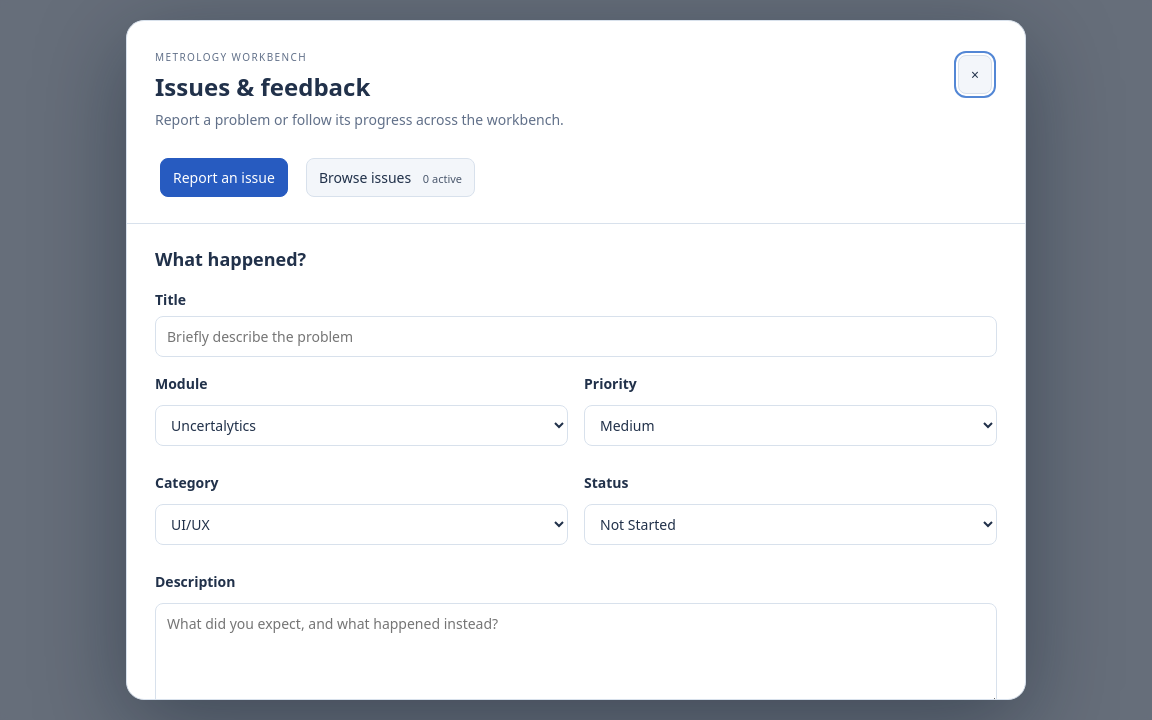
Scenario: Workbench issue tracker › keeps the draft after a failed save and persists a successful retry once
Type "Range selection" into the field labelled "Title".
click(576, 336); type("Range selection")  # box left=155, top=316, right=997, bottom=357
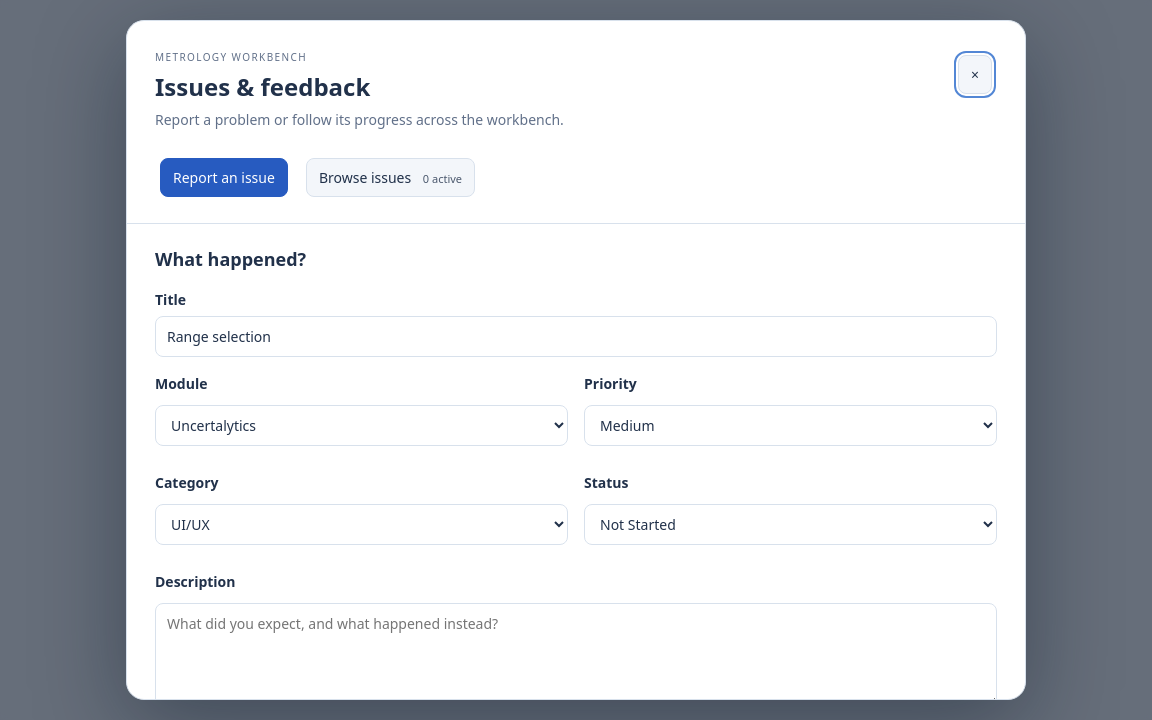
Type "Selection is lost" into the text box labelled "Description".
click(576, 655); type("Selection is lost")  # box left=155, top=603, right=997, bottom=707
(page scrolled)
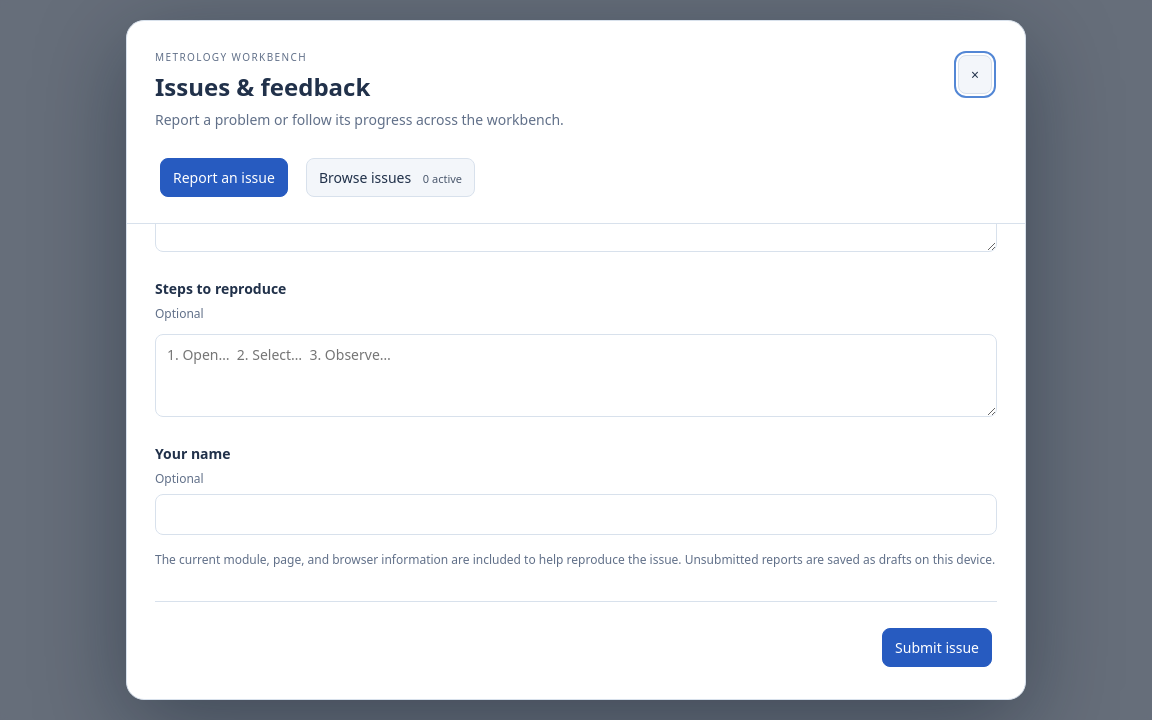
Click the button "Submit issue".
click(937, 648)  # box left=882, top=628, right=992, bottom=667
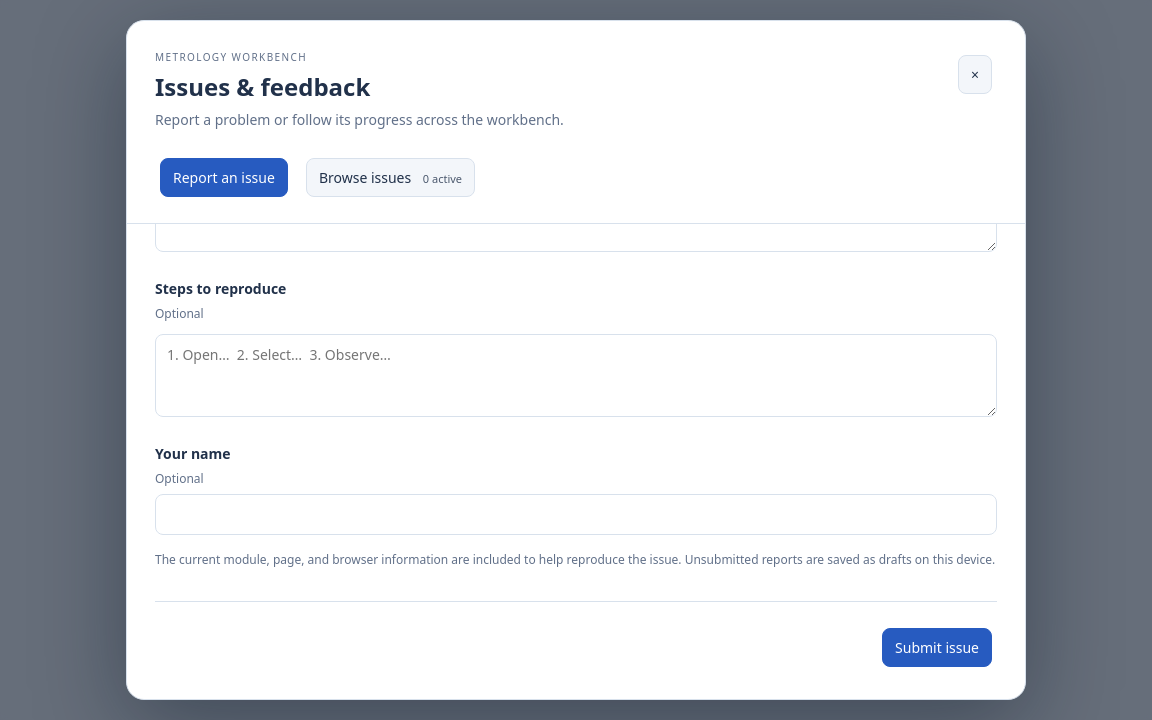
Click the button "Submit issue".
click(937, 648)  # box left=882, top=628, right=992, bottom=667
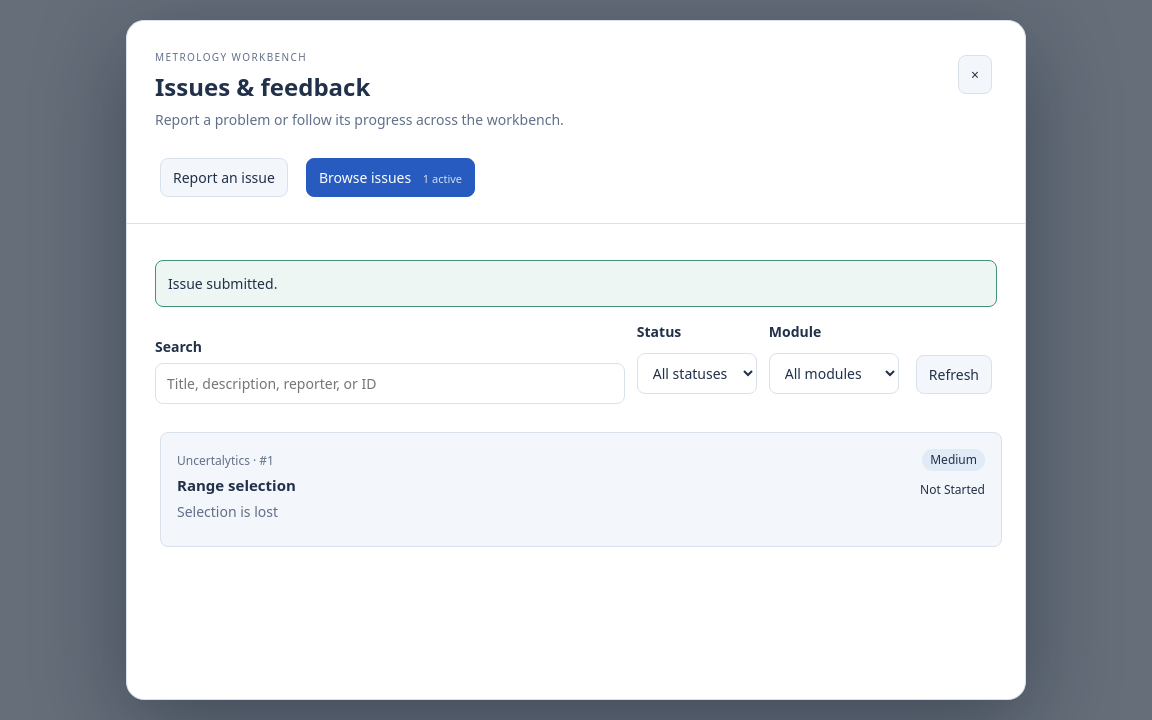
Now the text "Issue submitted." is shown, box left=155, top=260, right=997, bottom=307
Now the text "Range selection" is shown once, box left=177, top=474, right=296, bottom=496
